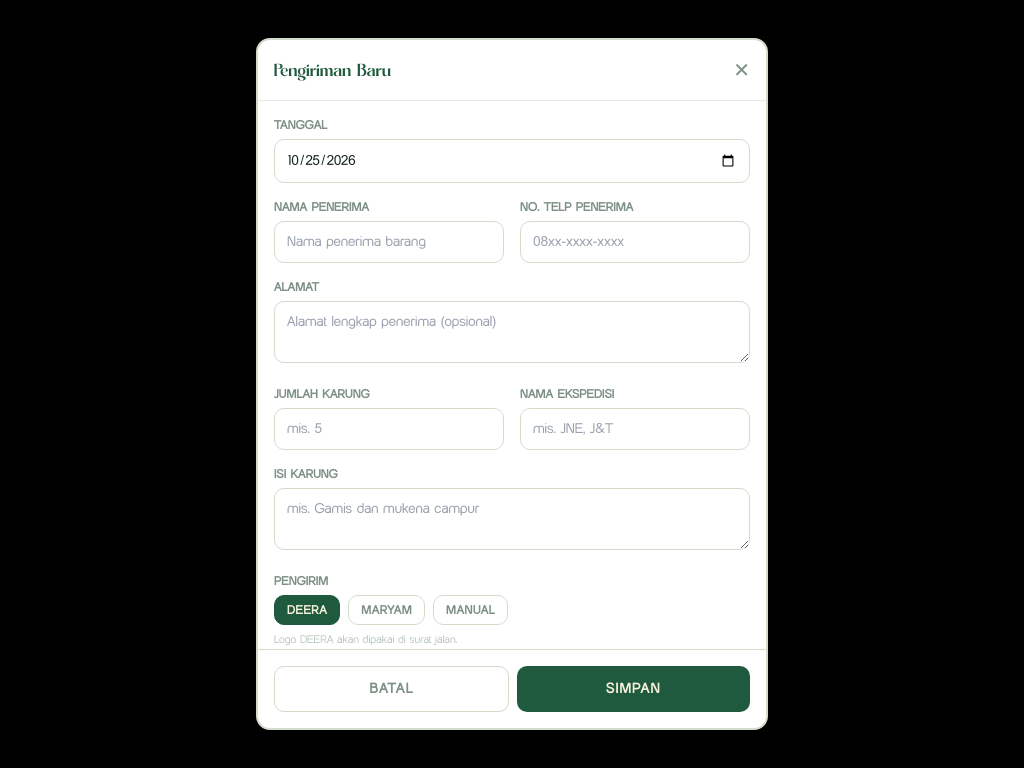
it: PengirimanForm › selector Pengirim (DEERA/MARYAM/Manual, permintaan Denny 2026-08) › klik MARYAM: aktif, tanpa input teks tambahan, hint logo MARYAM
Click the button "MARYAM": (387, 610) x1=348 y1=595 x2=425 y2=625
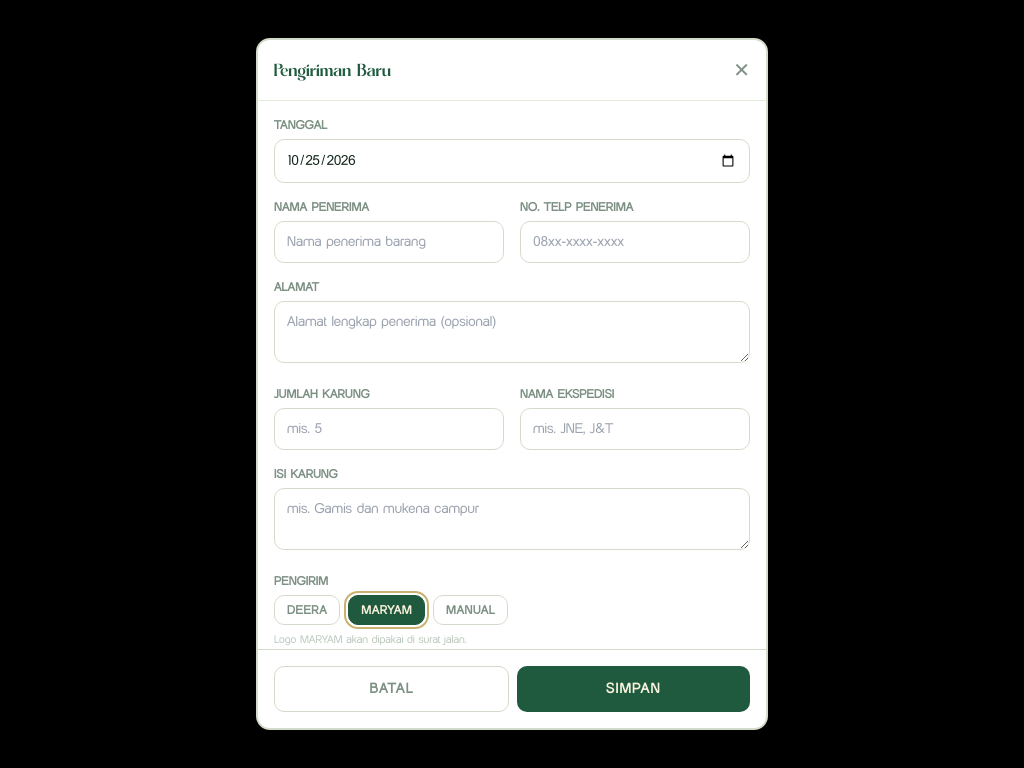
Now the text "Logo MARYAM akan dipakai di surat jalan." is shown, box x1=274 y1=632 x2=466 y2=646
